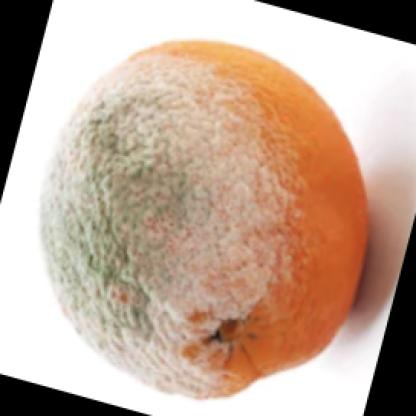rotten: (42, 41, 371, 400)
